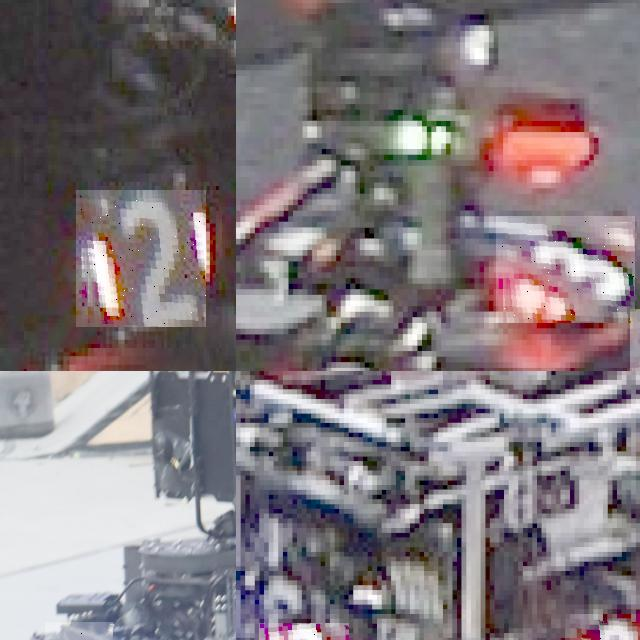R2: (76, 190, 206, 327), (570, 614, 640, 640), (259, 623, 348, 640)
R3: (496, 216, 635, 323)
